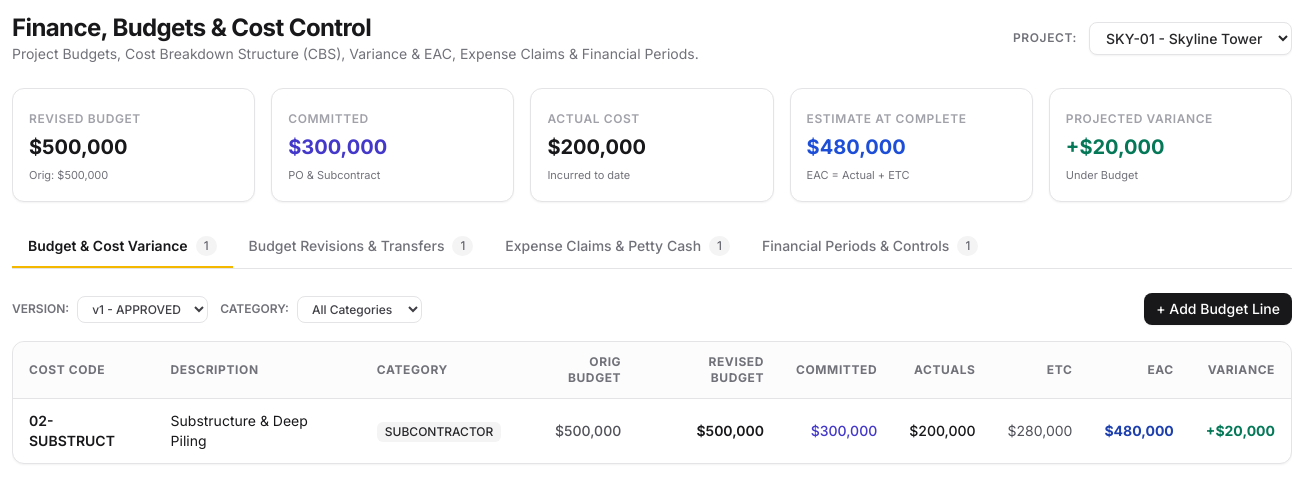
Test: FinancePage Component › switches to Expense Claims tab and renders claims
Expected: the heading "Finance, Budgets & Cost Control" is shown, [12,13,371,42]
Click the button "Expense Claims & Petty Cash 1": [618, 247] box [489,226,746,268]
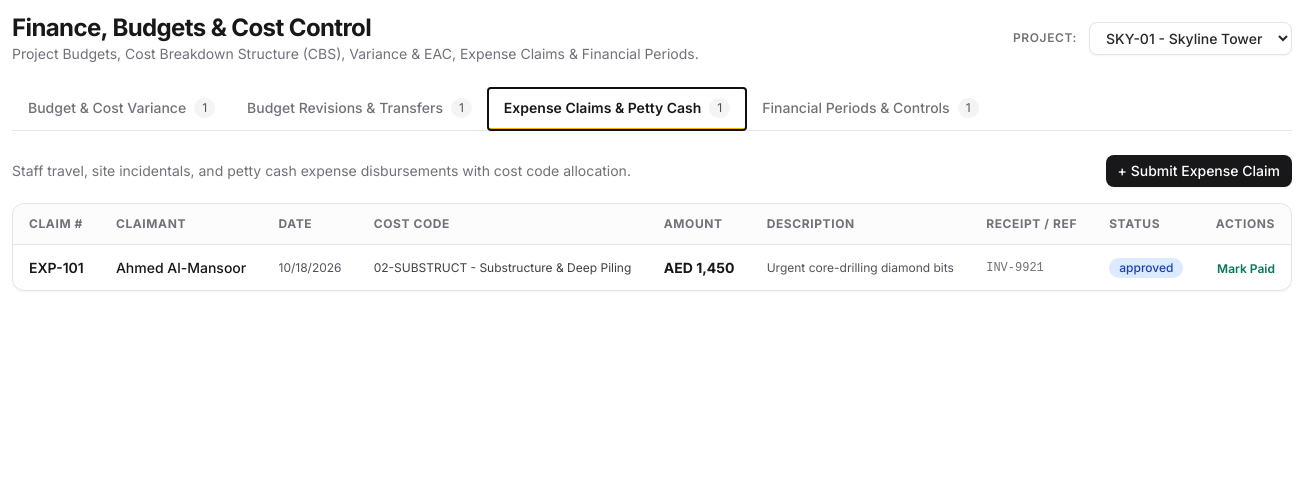
Result: the text "EXP-101" is shown at [13,244,100,290]
Result: the text "Ahmed Al-Mansoor" is shown at [100,244,262,290]
Result: the text "Urgent core-drilling diamond bits" is shown at [751,244,970,290]
